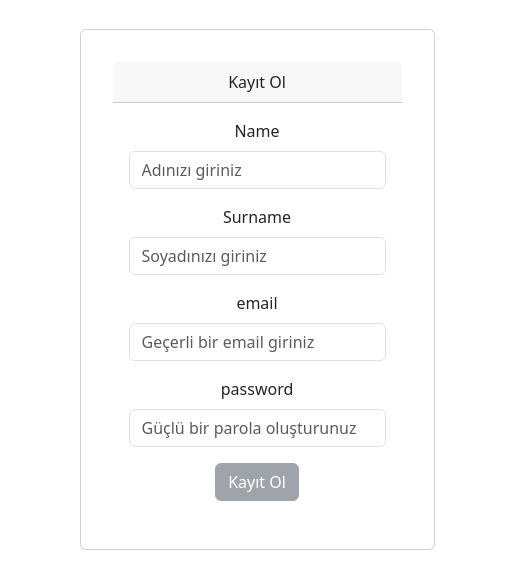
Scenario: Login Page › Error Messages › zayıf bir parolaysa error mesajı yazsın
Type "1234" into the password field with test id "password-input".
click(258, 428); type("1234")  # box [129,409,386,447]
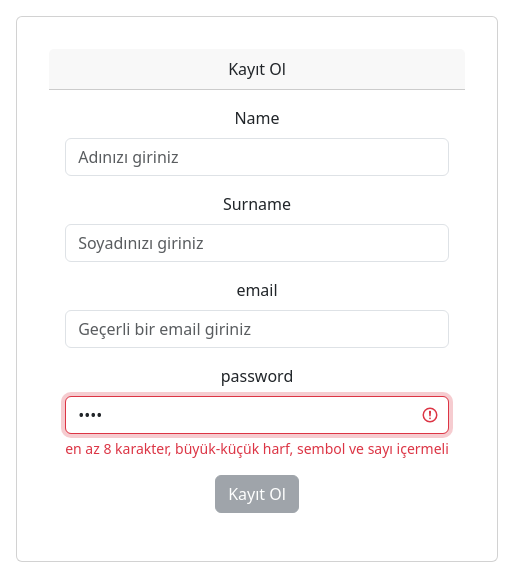
Check: the text "en az 8 karakter, büyük-küçük harf, sembol ve sayı içermeli" is shown, box [65,438,449,459]
